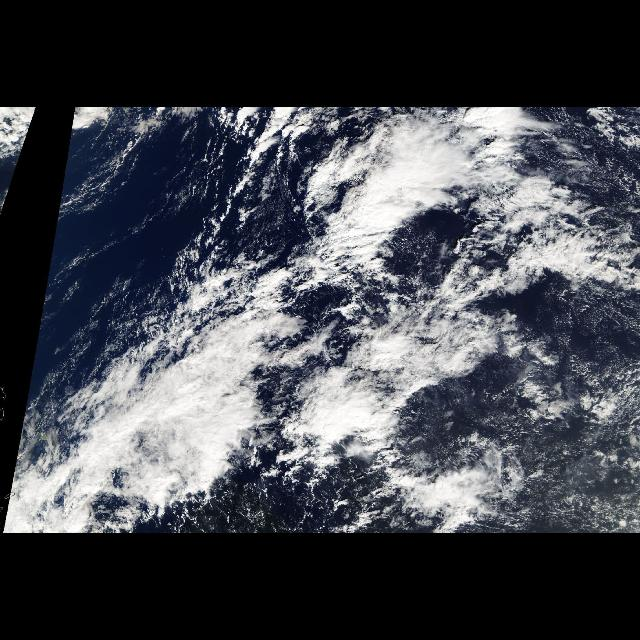Gravel: (175, 437, 395, 531)
Sugar: (495, 328, 639, 534)
